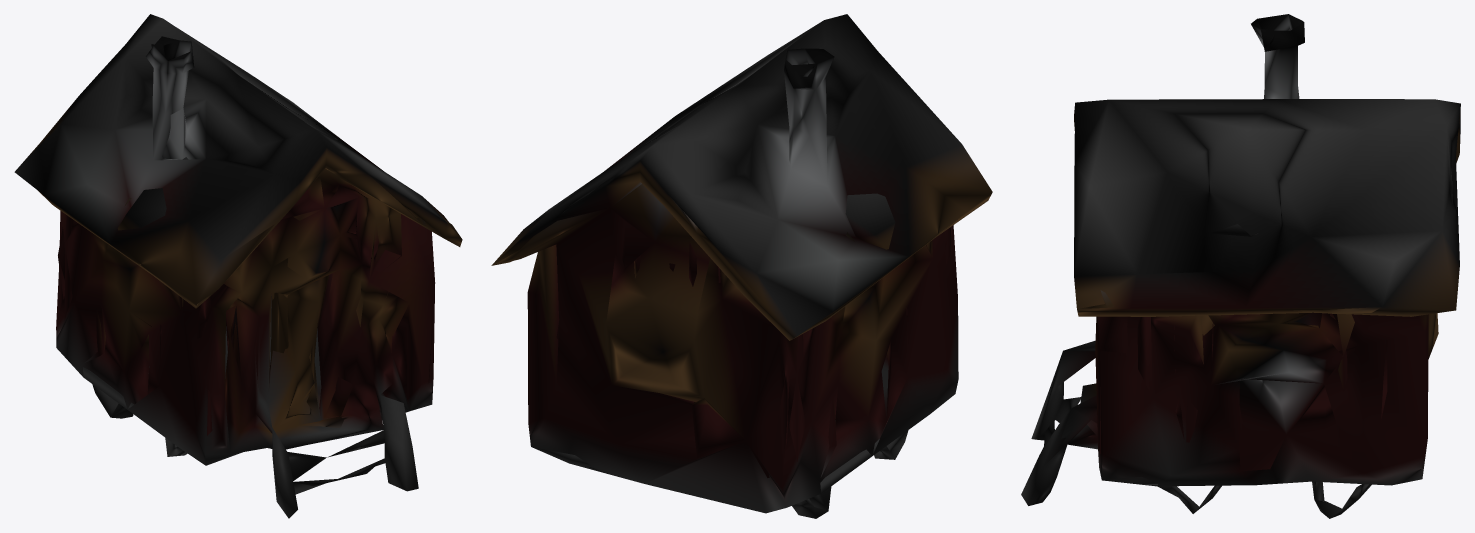
Rendered from gen3d-ice-fishing-hut-lod0.glb.
The picture shows the model from 3 angles, left to right: view 1: azimuth 30°, elevation 25°; view 2: azimuth 150°, elevation 25°; view 3: azimuth 270°, elevation 25°; orthographic projection. The views are drawn at different scales.
Visible parts, largest first — view 1: part_0; view 2: part_0; view 3: part_0.
Boxes of the visible parts, x1,y1,x2,y2 form: part_0: (14, 14, 462, 518); part_0: (491, 14, 992, 518); part_0: (1021, 14, 1460, 518).
Bounding box in the file's own units: 0.7477 × 0.9976 × 0.9529.
